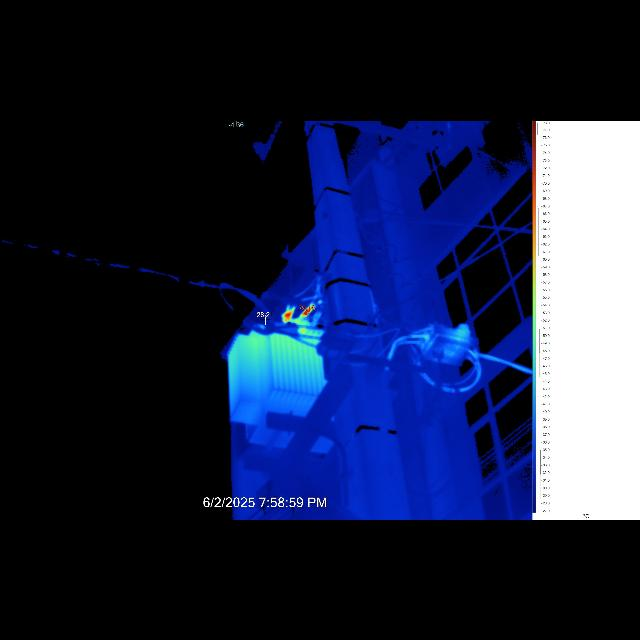loose_joint_red: (282, 306, 294, 321)
point_overload_red: (298, 303, 316, 319)
